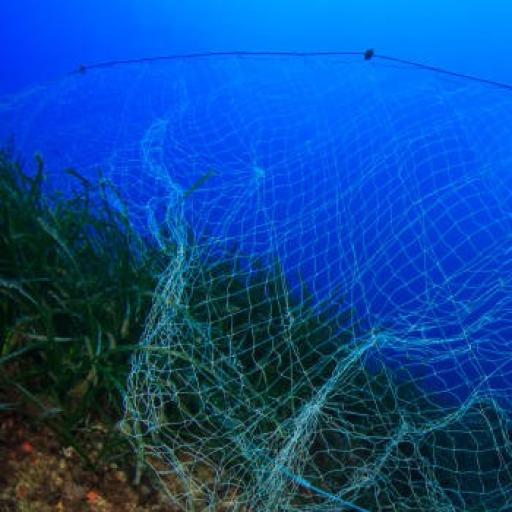net: (14, 45, 510, 512)
